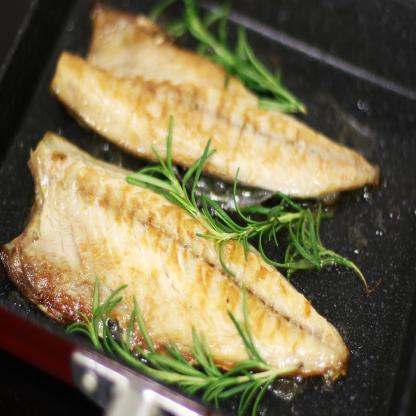Peixe: (0, 144, 368, 408), (62, 5, 375, 182)
